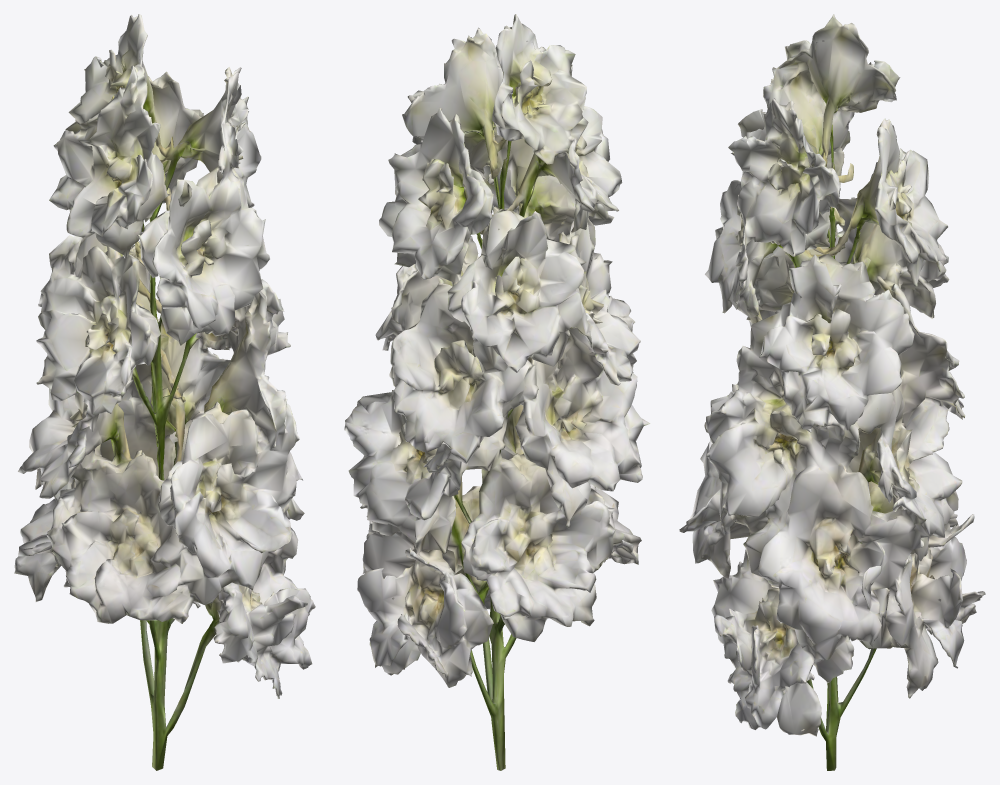
Rendered from delphinium.glb.
3 renders of one model, left to right at view 1: azimuth 30°, elevation 25°; view 2: azimuth 150°, elevation 25°; view 3: azimuth 270°, elevation 25°, orthographic.
Visible parts, largest first — view 1: Object_4; view 2: Object_4; view 3: Object_4.
Part boxes in pixels (box(x1,y1,x2,y2)): Object_4: box(14, 14, 315, 770); Object_4: box(344, 14, 650, 770); Object_4: box(679, 14, 985, 770).
Bounding box in the file's own units: 0.3625 × 0.9991 × 0.3714.
1 material, 1 textured.
